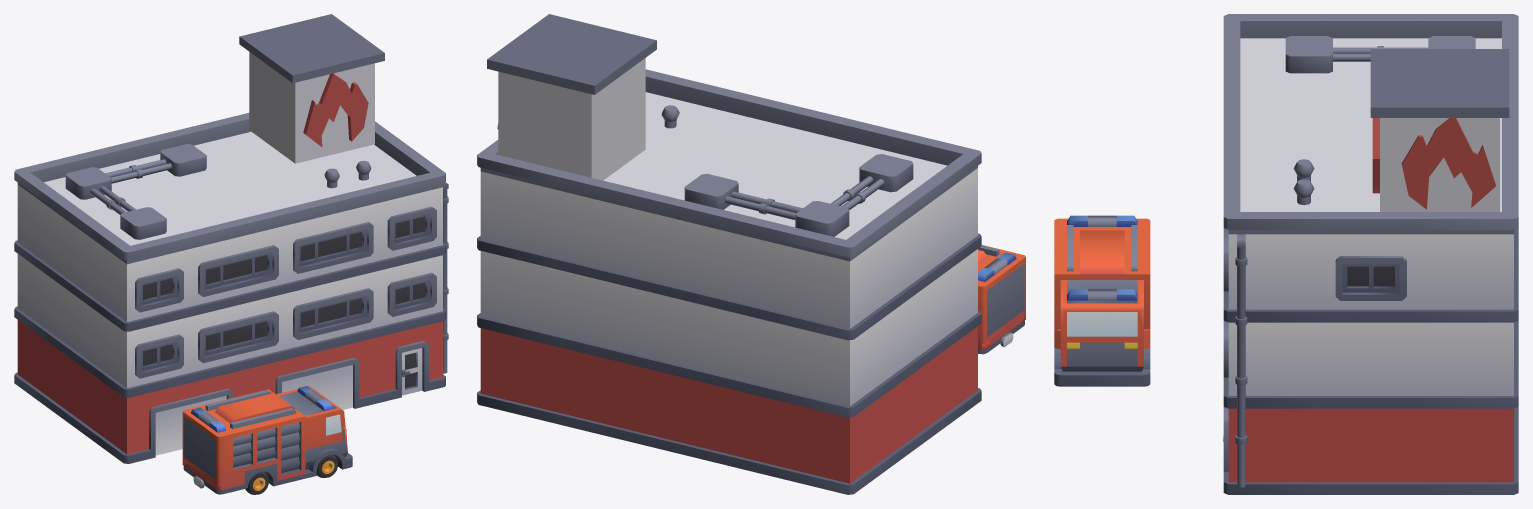
File: fire_station.glb
3 renders of one model, left to right at view 1: azimuth 30°, elevation 25°; view 2: azimuth 150°, elevation 25°; view 3: azimuth 270°, elevation 25°, orthographic. The views are drawn at different scales.
Parts seen in each view (by area): view 1: building-a; view 2: building-a; view 3: building-a.
Boxes of the visible parts, box(x1,y1,x2,y2) form: building-a: box(14, 14, 448, 494); building-a: box(477, 14, 1025, 494); building-a: box(1054, 14, 1518, 494).
Bounding box in the file's own units: 1.31 × 1.12 × 1.22.
Materials: 6 (3 with a texture image).
